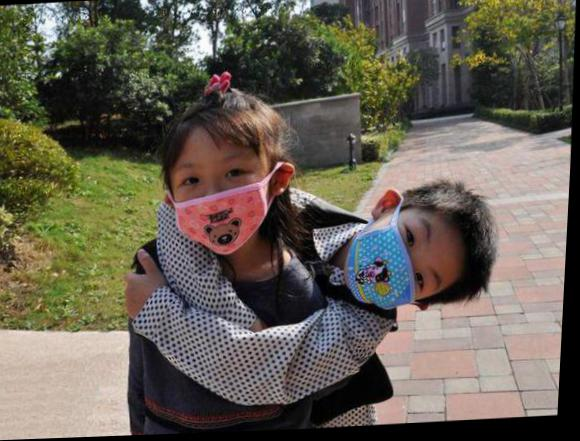OK: (350, 217, 451, 316)
WRONG: (177, 153, 272, 258)
